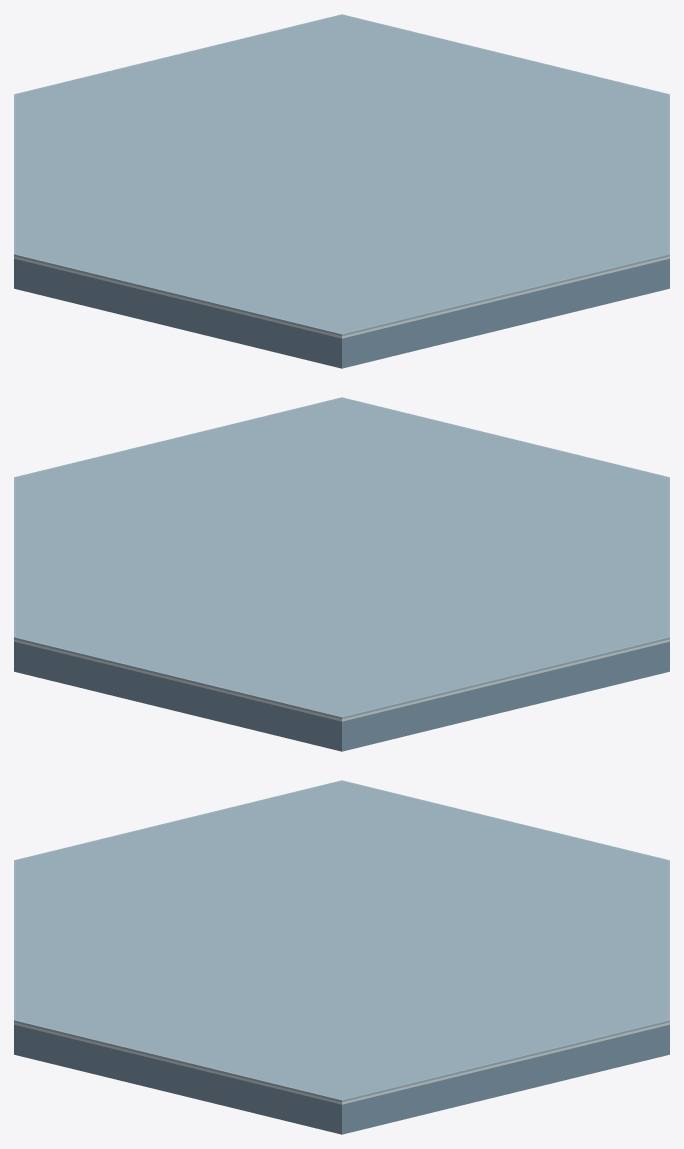
The model's file is campus_base_hex_v01.glb.
The picture shows the model from 3 angles, top to bottom: view 1: azimuth 30°, elevation 25°; view 2: azimuth 150°, elevation 25°; view 3: azimuth 270°, elevation 25°; orthographic projection.
Visible parts, largest first — view 1: campus_base_hex; view 2: campus_base_hex; view 3: campus_base_hex.
Part boxes in pixels (x1=…): campus_base_hex: x1=14, y1=14, x2=669, y2=368; campus_base_hex: x1=14, y1=397, x2=669, y2=751; campus_base_hex: x1=14, y1=780, x2=669, y2=1134.
Bounding box in the file's own units: 24 × 1.2 × 20.78.
Materials: 1 (1 with a texture image).
